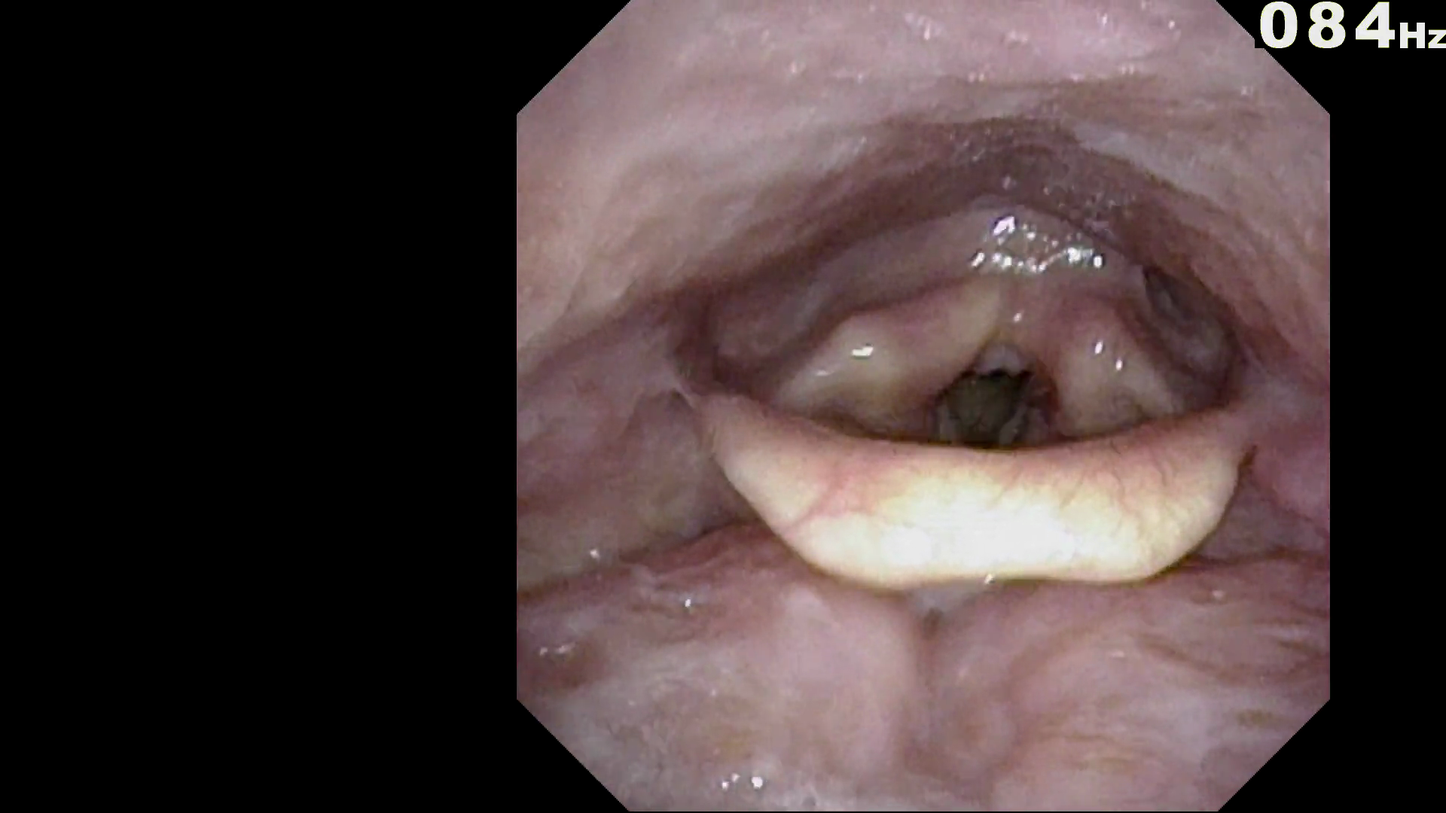epiglottis: (680, 358, 1277, 653)
trachea: (913, 345, 1060, 497)
